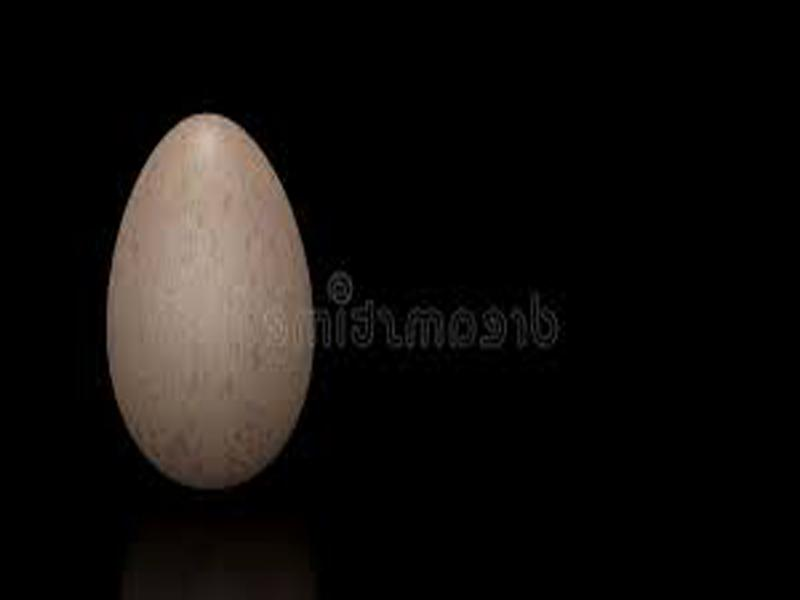Eggs: (106, 111, 311, 489)
